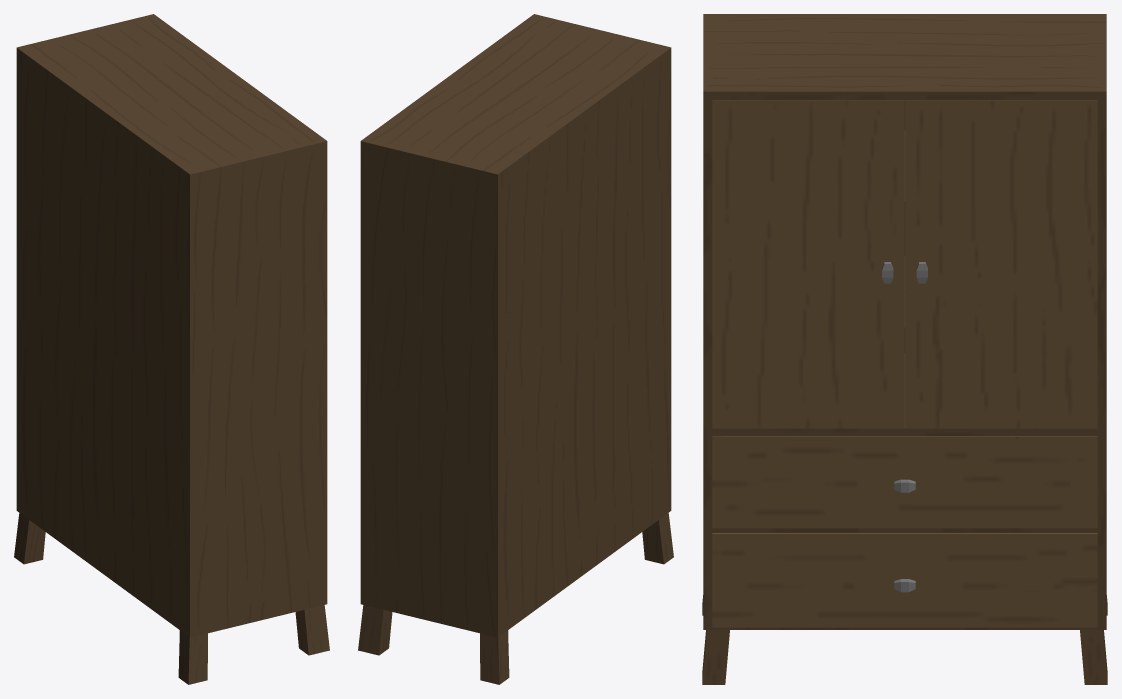
Rendered from Wardrobe1.fbx.
3 renders of one model, left to right at view 1: azimuth 30°, elevation 25°; view 2: azimuth 150°, elevation 25°; view 3: azimuth 270°, elevation 25°, orthographic. The views are drawn at different scales.
Parts seen in each view (by area): view 1: wardrobe1.001; view 2: wardrobe1.001; view 3: wardrobe1.001.
Boxes of the visible parts, left/top/right/bottom form: wardrobe1.001: left=14, top=14, right=329, bottom=684; wardrobe1.001: left=358, top=14, right=673, bottom=684; wardrobe1.001: left=702, top=14, right=1107, bottom=684.
Bounding box in the file's own units: 68.58 × 223 × 139.
1 material, 1 textured.
